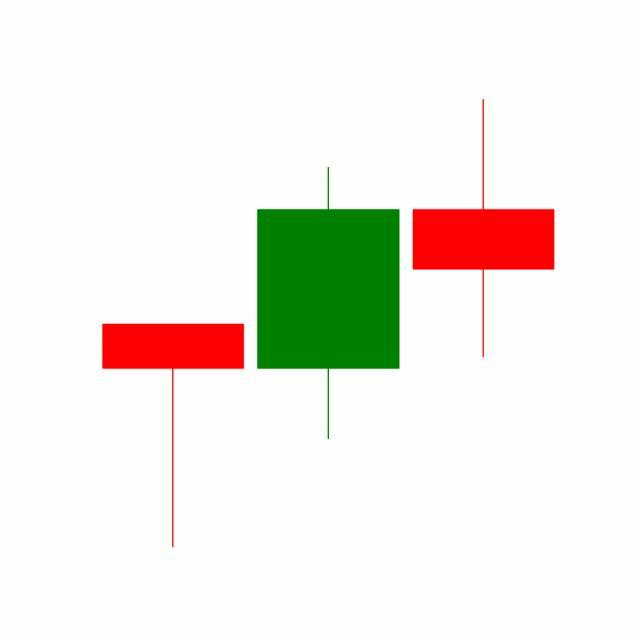Spinning Top: (406, 96, 562, 361)
